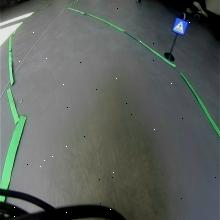crosswalk: (172, 18, 189, 36)
